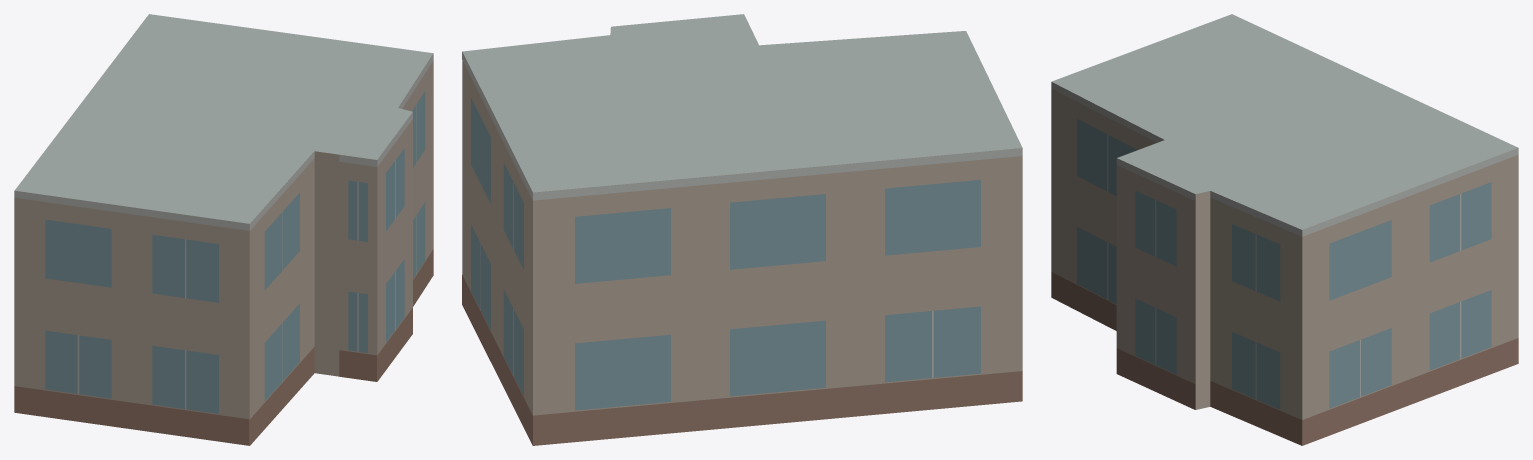
File: survey-upis-32627736.glb
3 views of the same model, side by side, from view 1: azimuth 30°, elevation 25°; view 2: azimuth 150°, elevation 25°; view 3: azimuth 270°, elevation 25° (orthographic). The views are drawn at different scales.
Visible parts, largest first — view 1: survey-upis-32627736.tmp; view 2: survey-upis-32627736.tmp; view 3: survey-upis-32627736.tmp.
Boxes of the visible parts, left/top/right/bottom form: survey-upis-32627736.tmp: left=14, top=14, right=433, bottom=445; survey-upis-32627736.tmp: left=462, top=14, right=1022, bottom=445; survey-upis-32627736.tmp: left=1051, top=14, right=1518, bottom=445.
Bounding box in the file's own units: 16.53 × 7.7 × 15.11.
